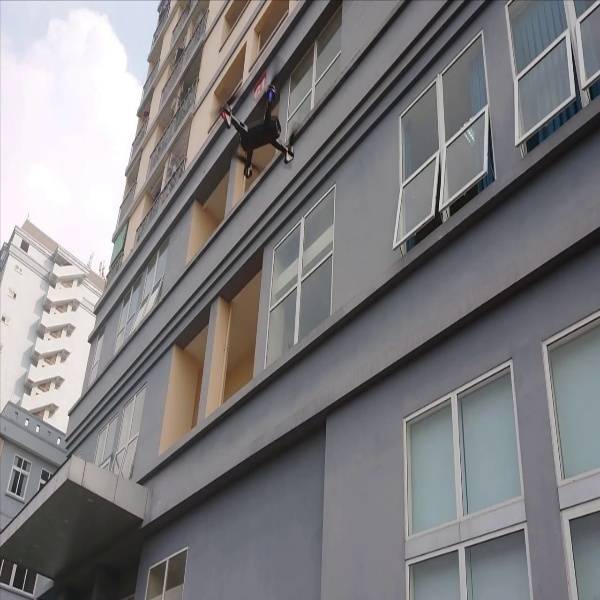drone: (208, 69, 304, 180)
